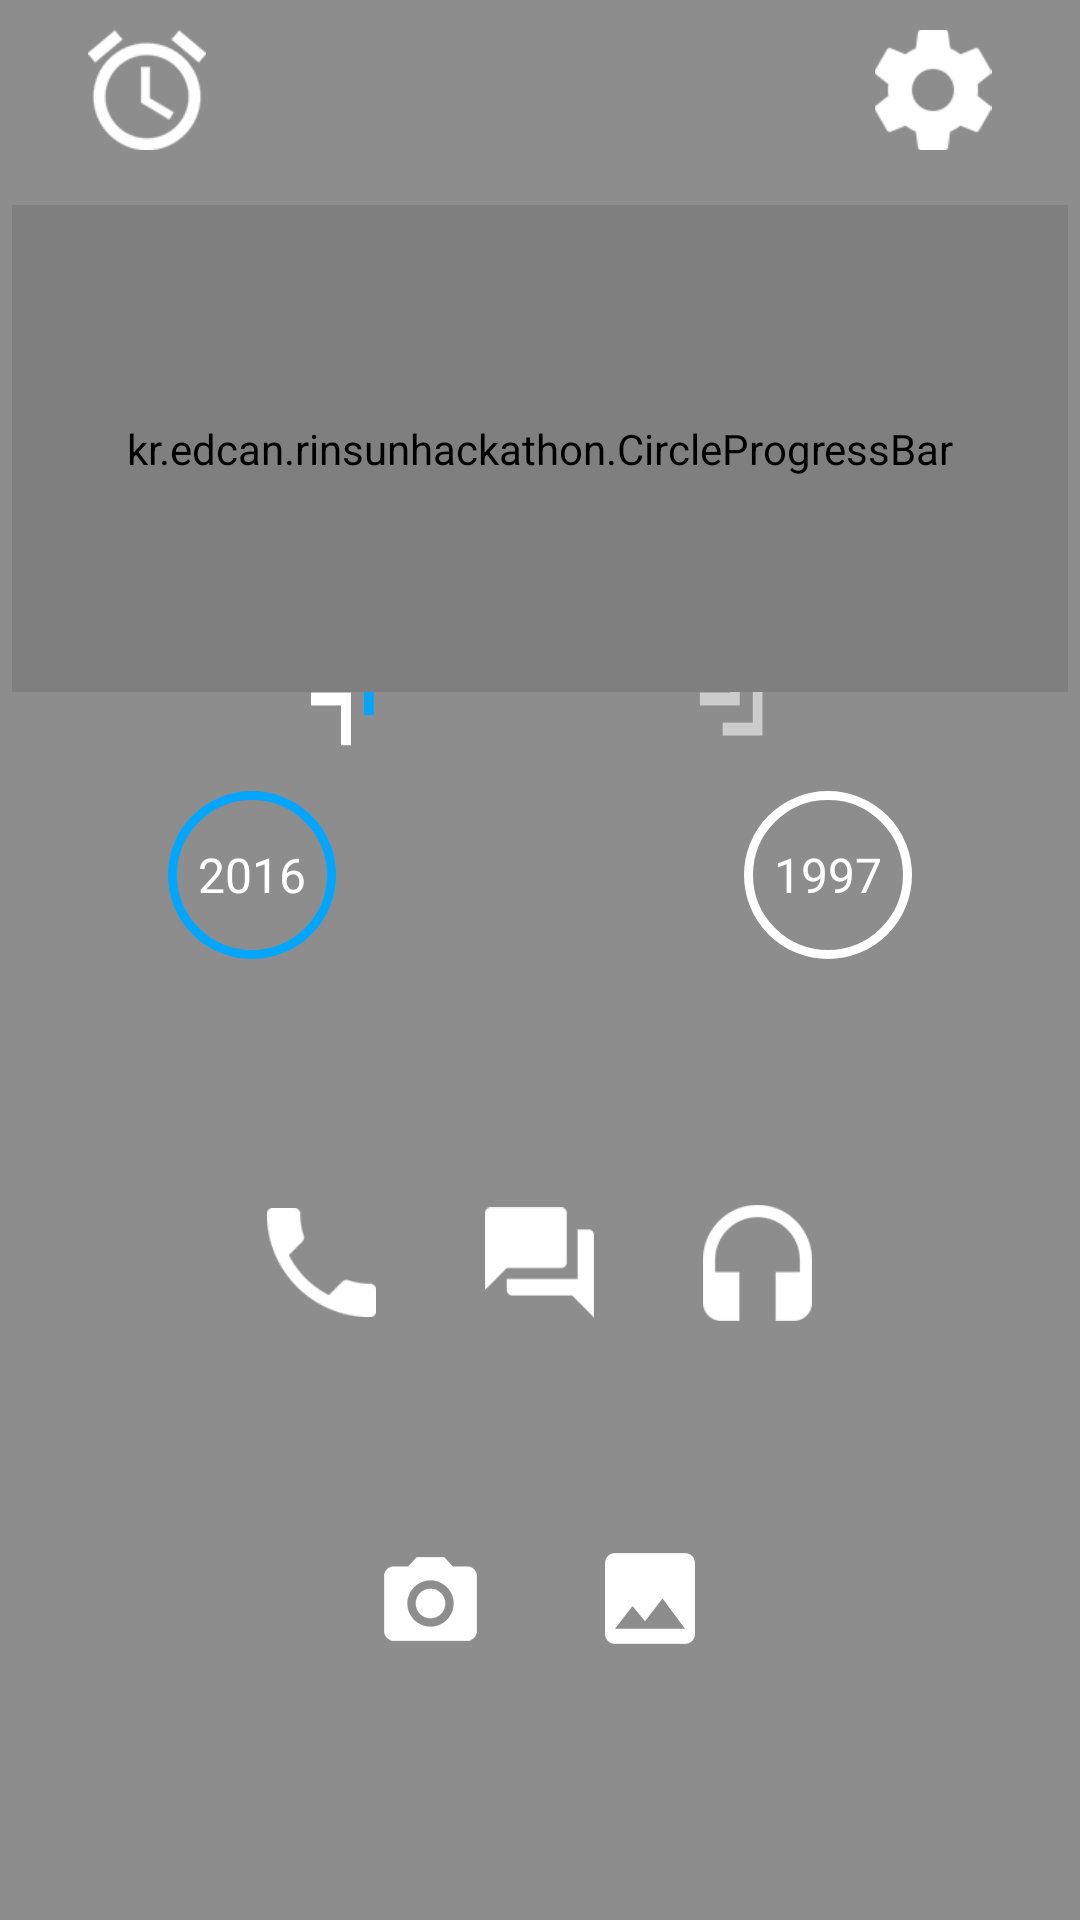

Screen size 1080px×1920px. Icon name, then its box in pixels as (x1,y1,x2,y2):
alarm: (88,30,206,150)
camera: (384,1557,477,1641)
gallery: (605,1553,695,1644)
messege: (485,1207,594,1318)
music: (703,1205,812,1321)
phone: (267,1208,376,1317)
settings: (875,30,992,150)
